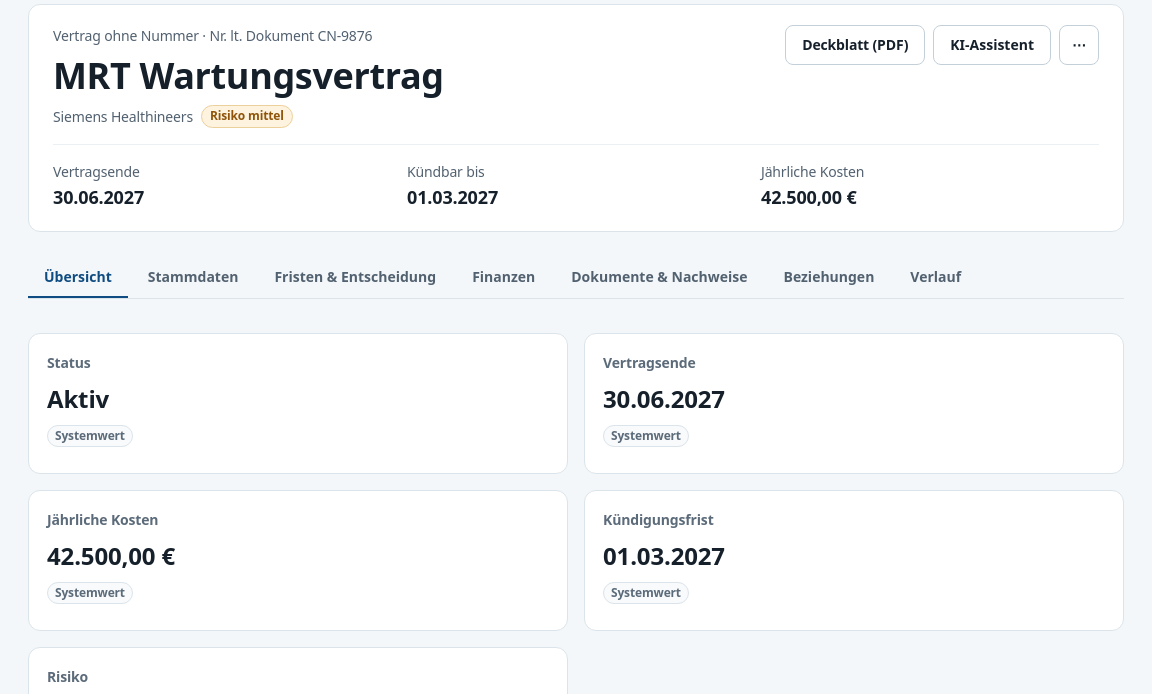
Vertrags-Detail + Quellenanzeige (tabbed Contract Workspace) › zeigt Nachweise mit ehrlicher Navigations-Präzision
expect the heading "MRT Wartungsvertrag" is shown: met, box 53,51 -> 444,100
Click the tab "Dokumente & Nachweise": click(659, 278) 555,258 -> 764,298
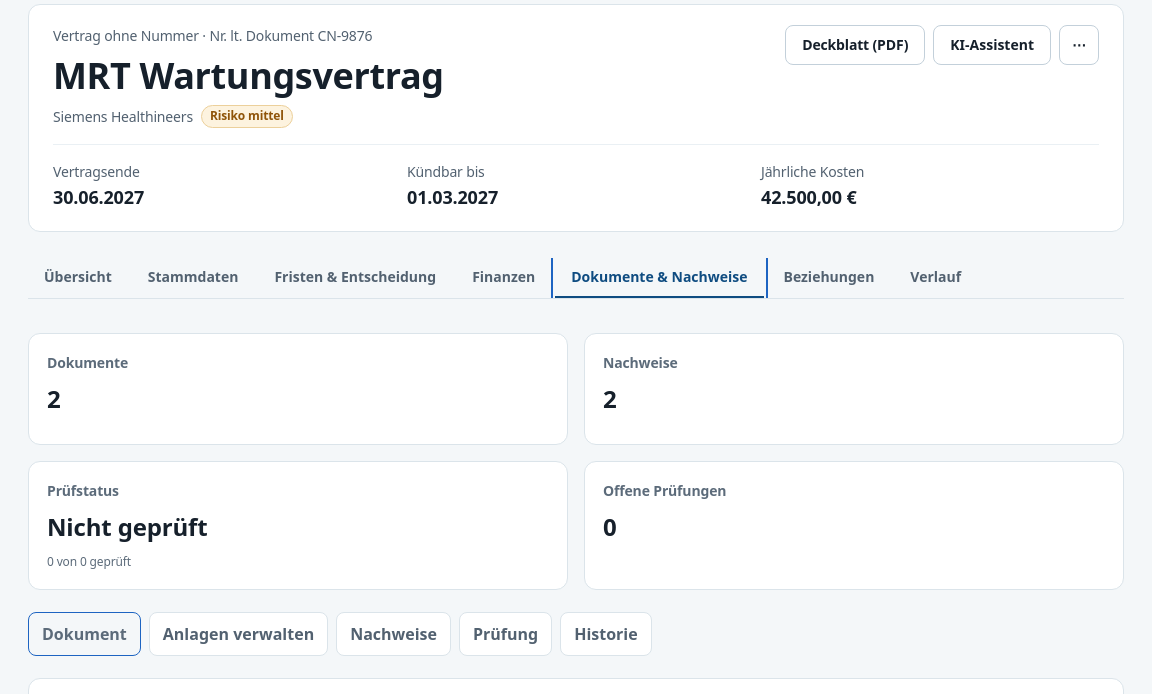
Click the button "Nachweise": click(394, 634) 336,612 -> 451,656
(page scrolled)
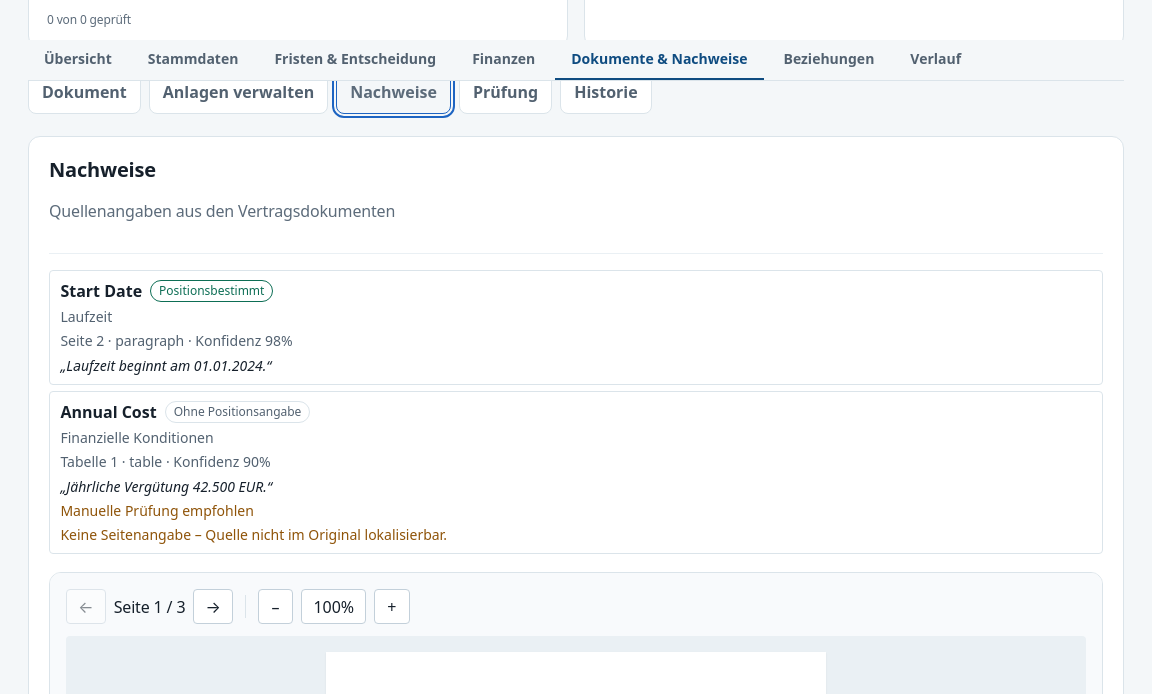
expect the text "Positionsbestimmt" is shown: met, box 150,280 -> 273,302
expect the text "Ohne Positionsangabe" is shown: met, box 165,401 -> 310,423
expect the text "Seite 2 · paragraph · Konfidenz 98%" is shown: met, box 60,330 -> 293,351
